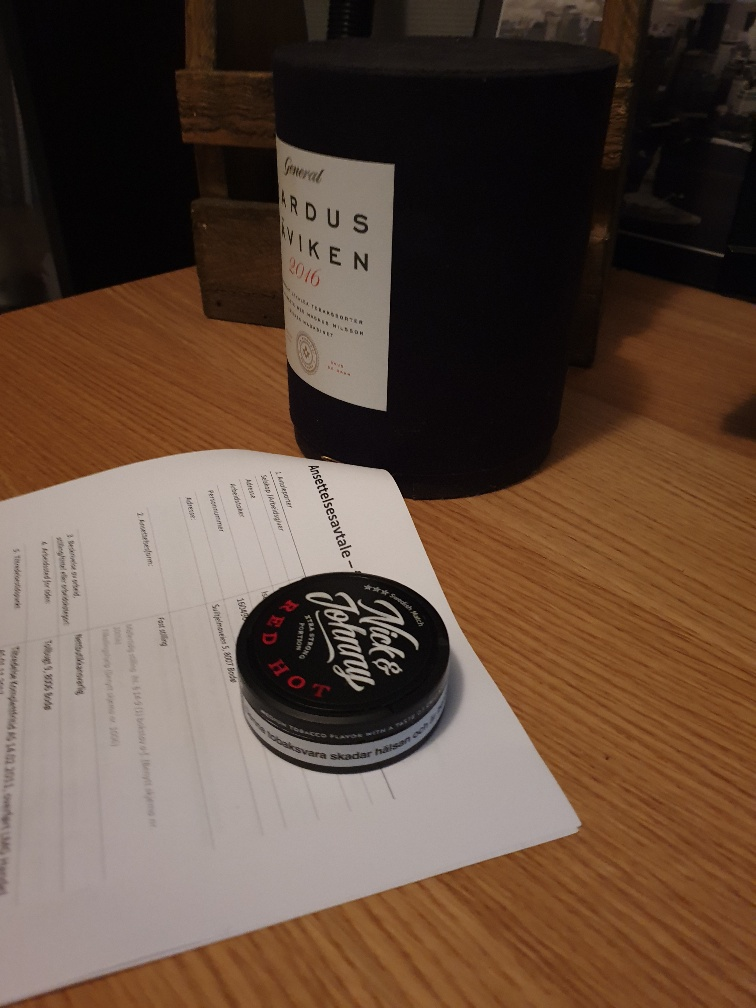snus: (222, 570, 460, 778)
